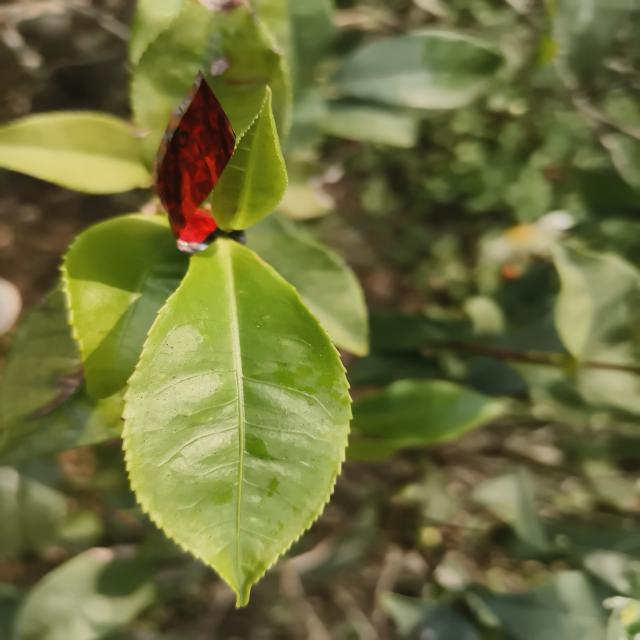Leaf: (123, 239, 351, 606), (130, 0, 292, 160), (62, 214, 189, 398), (0, 288, 123, 463), (246, 213, 369, 356), (334, 29, 501, 110), (14, 547, 156, 640), (346, 380, 505, 460), (0, 111, 152, 194), (207, 87, 288, 231), (553, 245, 636, 360), (480, 571, 605, 640)
